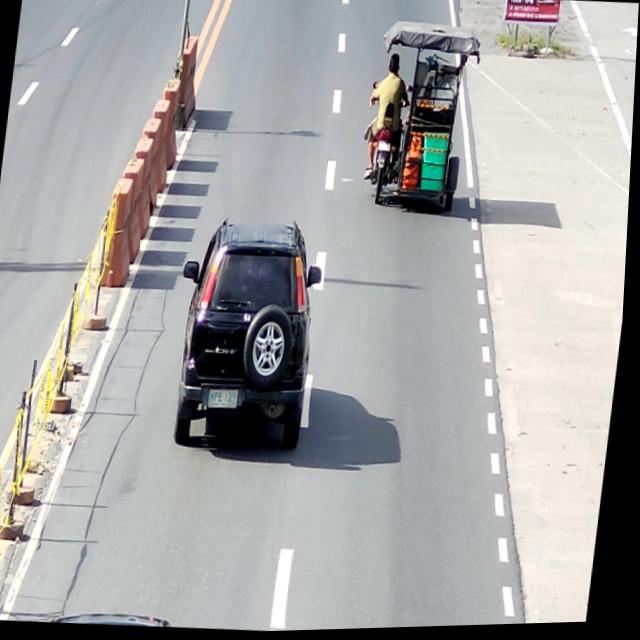Car: (166, 211, 332, 459)
License-Plate: (210, 387, 243, 412), (378, 141, 393, 154)
Tricycle: (358, 20, 480, 218)
